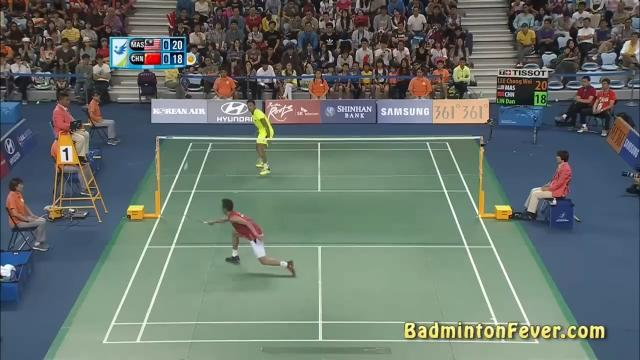Shuttlecock: (182, 160, 192, 174)
